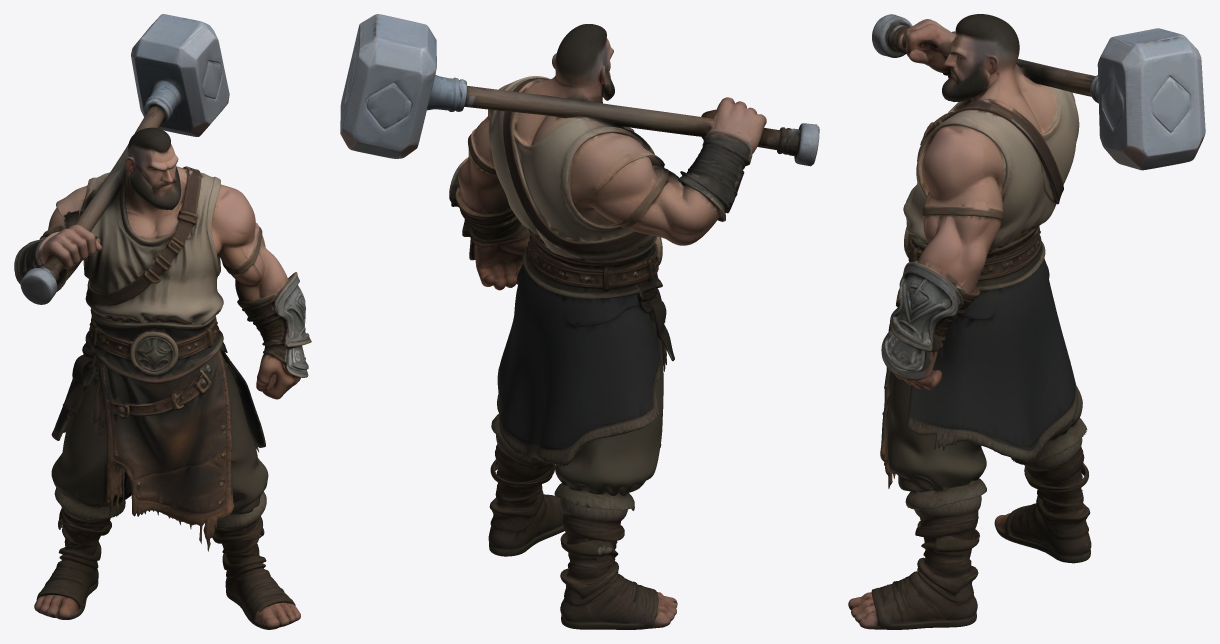
Rendered from np_smith.glb.
3 renders of one model, left to right at view 1: azimuth 30°, elevation 25°; view 2: azimuth 150°, elevation 25°; view 3: azimuth 270°, elevation 25°, orthographic. The views are drawn at different scales.
Visible parts, largest first — view 1: node_0; view 2: node_0; view 3: node_0.
Part boxes in pixels (box(x1,y1,x2,y2)): node_0: box(14, 14, 311, 629); node_0: box(340, 14, 819, 629); node_0: box(848, 14, 1205, 629).
Size of the model in its own units: 0.6333 by 1 by 0.5446.
1 material, 1 textured.
